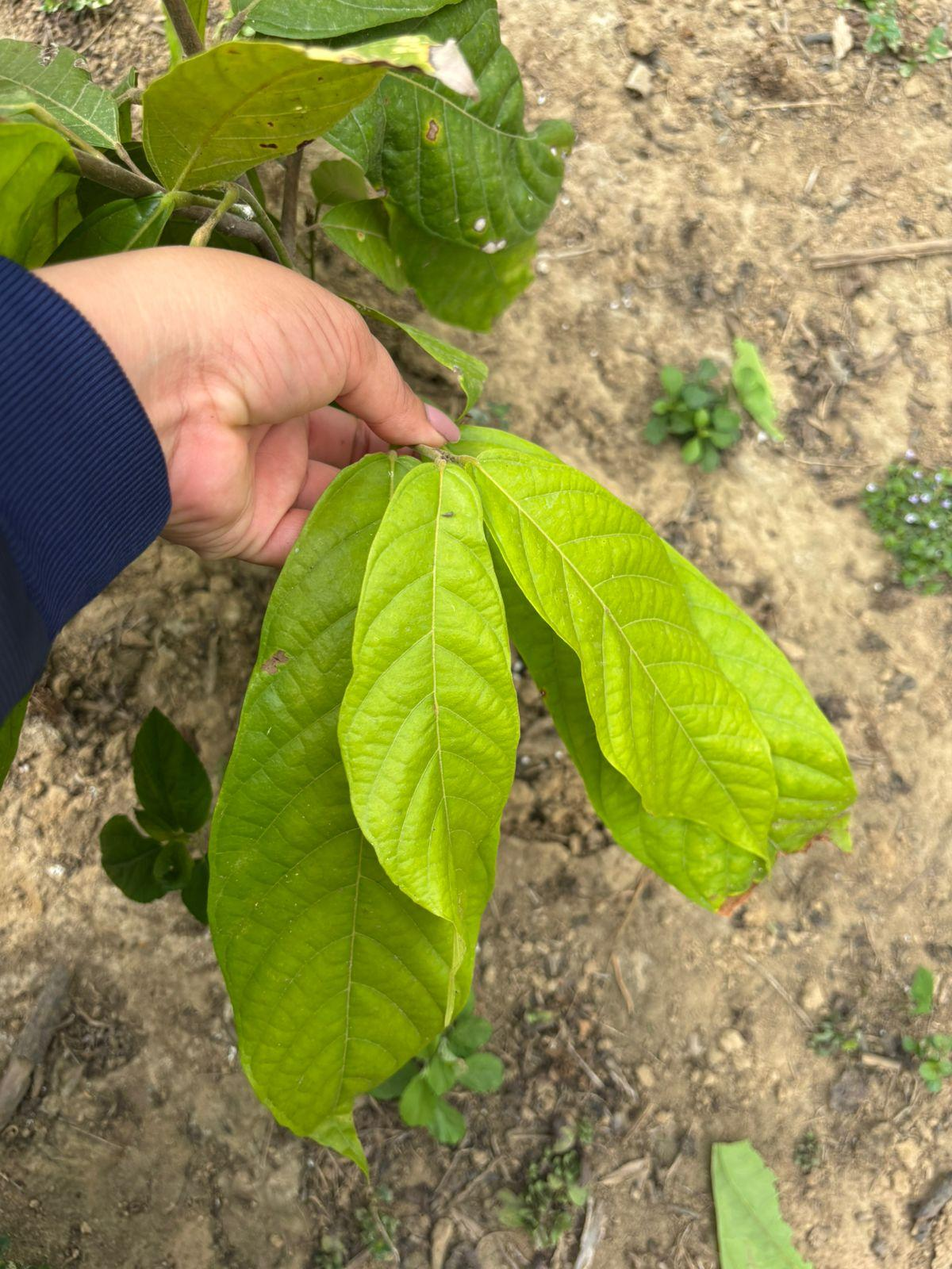deficiencia_nitrogeno: (209, 459, 472, 1164), (474, 449, 776, 851), (339, 463, 518, 968)
